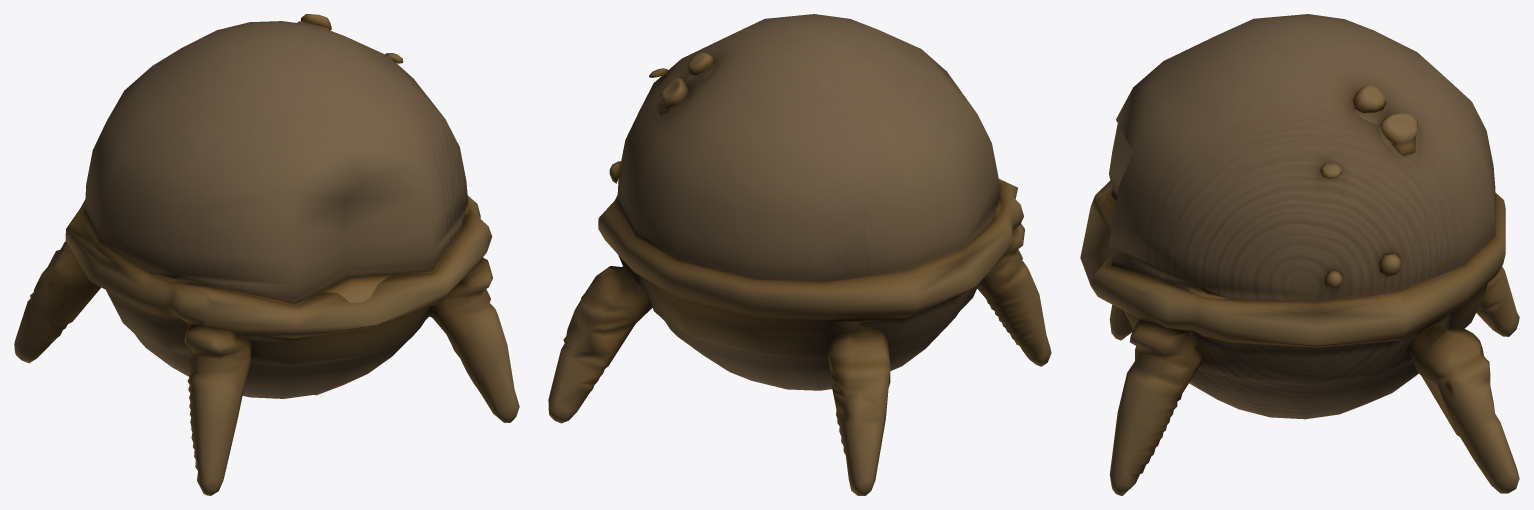
File: focus.glb
The picture shows the model from 3 angles, left to right: view 1: azimuth 30°, elevation 25°; view 2: azimuth 150°, elevation 25°; view 3: azimuth 270°, elevation 25°; orthographic projection. The views are drawn at different scales.
Parts seen in each view (by area): view 1: base_model_path; view 2: base_model_path; view 3: base_model_path.
Part boxes in pixels (x1,y1,x2,y2): base_model_path: (14,14,519,495); base_model_path: (548,14,1051,495); base_model_path: (1080,14,1519,495).
Bounding box in the file's own units: 0.9879 × 0.9605 × 0.9918.
1 material, 1 textured.
